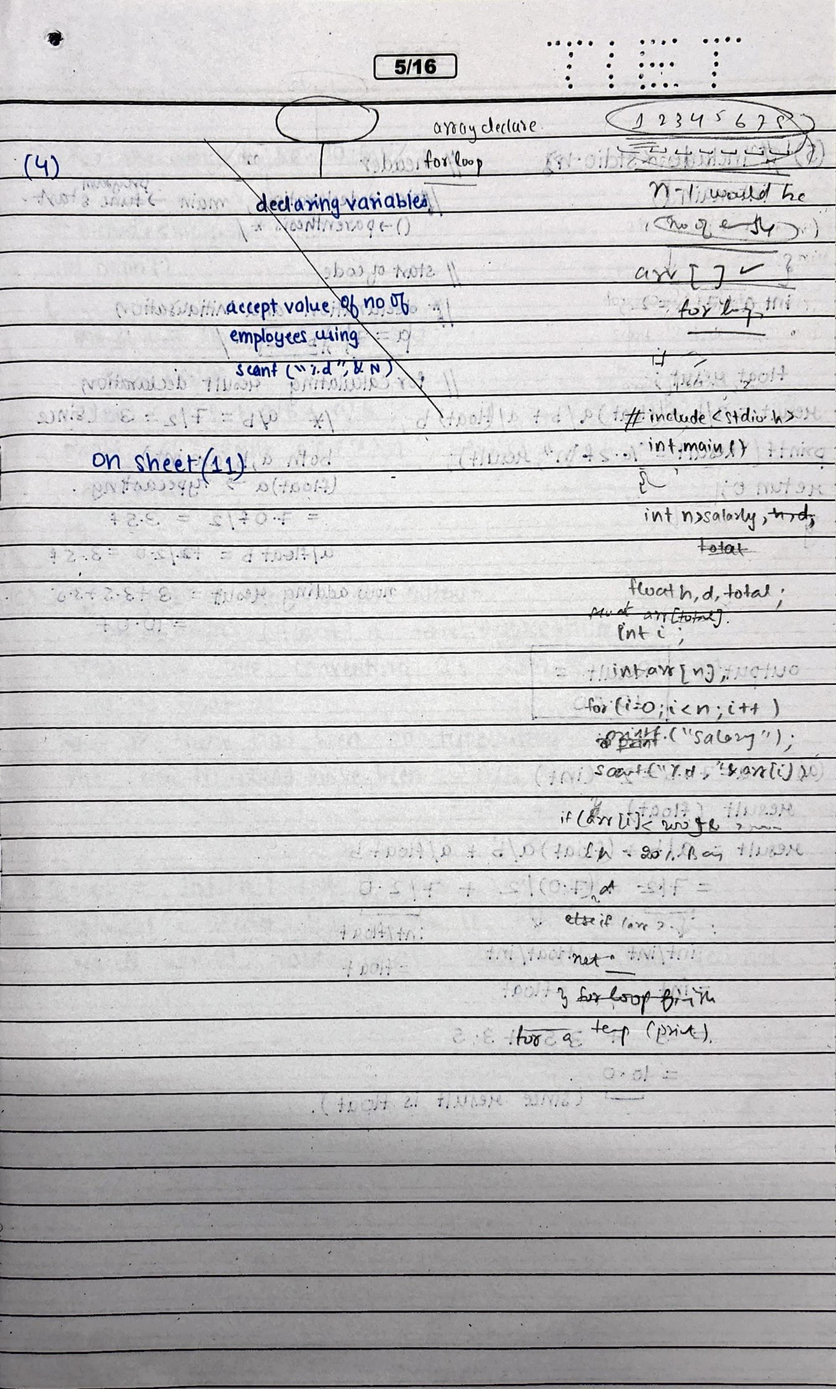cuttings: (199, 90, 447, 421), (575, 981, 723, 1017), (765, 501, 819, 531), (695, 533, 751, 559), (614, 737, 663, 756)
